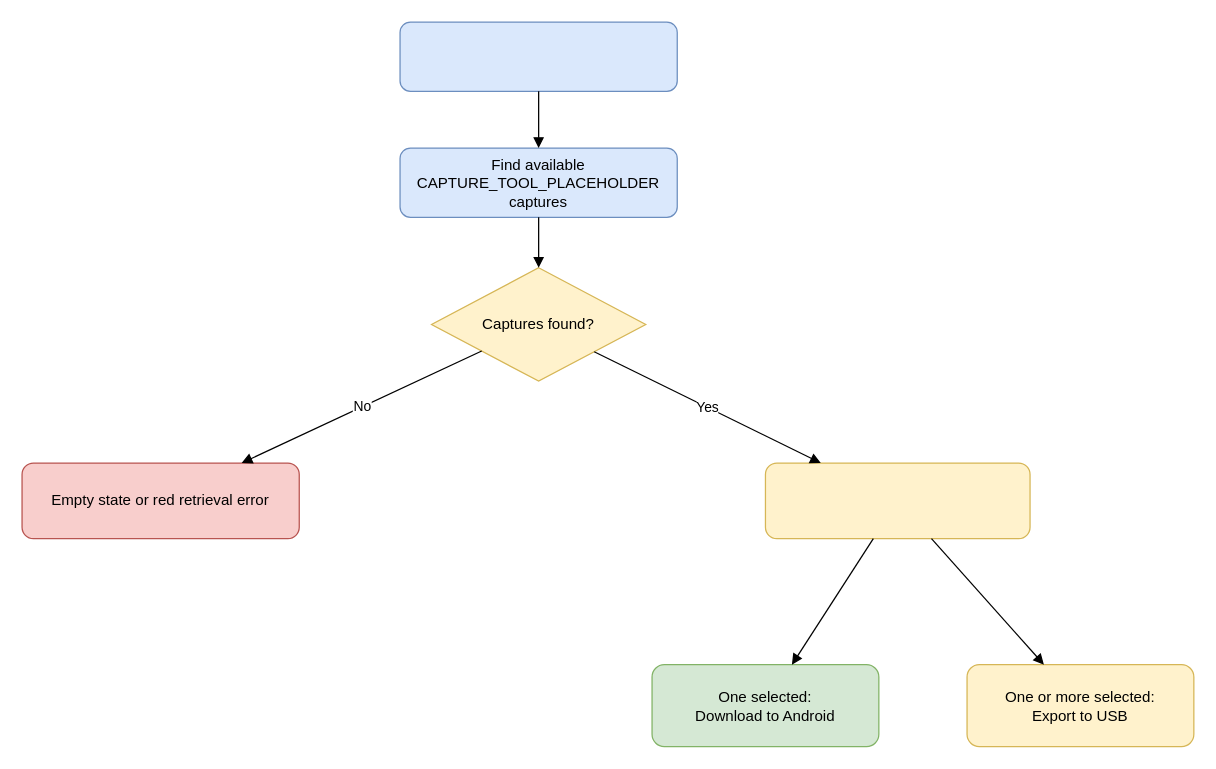
Some shapes in this 1216 by 769 pixel diagram are drawn without their labels. Here are the shapes that lost their labels. From the top down, the centre of each, then its label:
At (x=538, y=56): "Open Export CAPTURE_TOOL_PLACEHOLDER Captures".
At (x=897, y=500): "Show capture selection".
